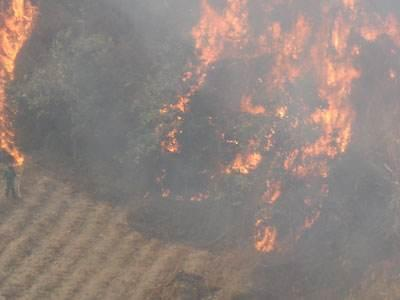fire: (158, 1, 388, 256), (0, 0, 32, 176)
